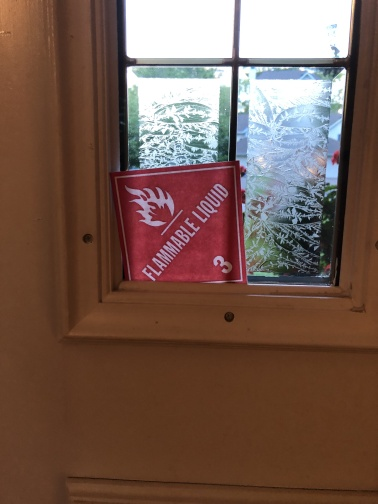FlammableLiquid: (103, 158, 254, 284)
